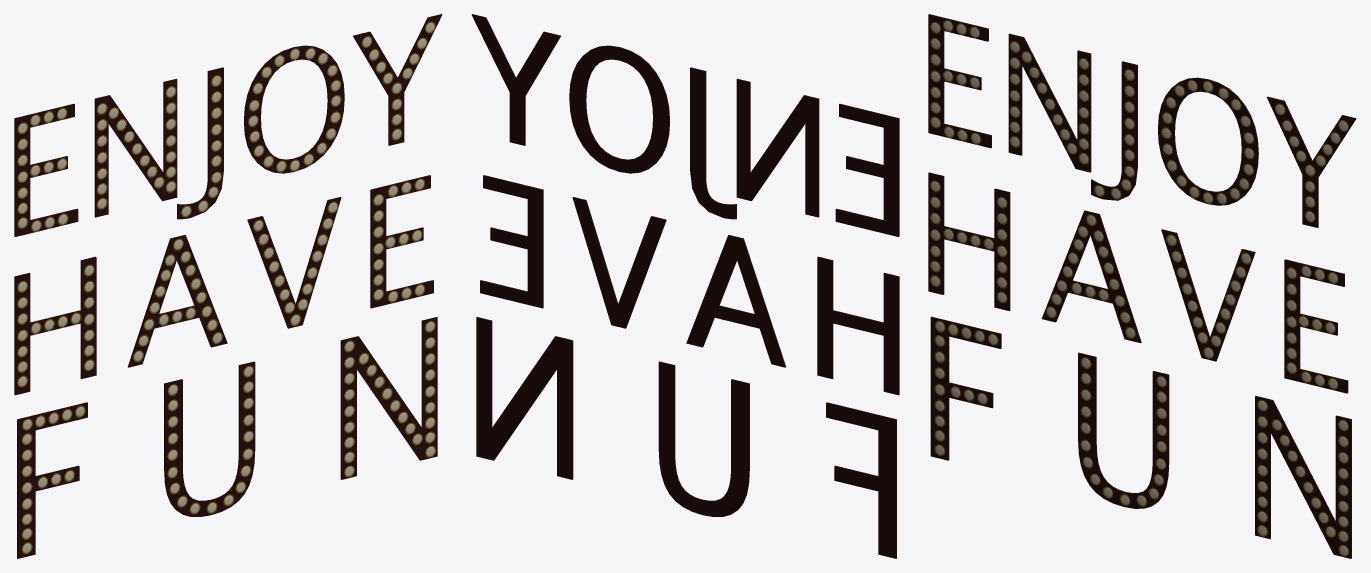
Rendered from enjoy23.obj.
3 views of the same model, side by side, from view 1: azimuth 30°, elevation 25°; view 2: azimuth 150°, elevation 25°; view 3: azimuth 330°, elevation 25° (orthographic).
Visible parts, largest first — view 1: Y_pSphere51.001; view 2: Y_pSphere51.001; view 3: Y_pSphere51.001.
Boxes of the visible parts, x1=… form: Y_pSphere51.001: x1=14, y1=14, x2=442, y2=558; Y_pSphere51.001: x1=471, y1=14, x2=899, y2=558; Y_pSphere51.001: x1=928, y1=14, x2=1356, y2=558.
Size of the model in its own units: 3 by 3 by 0.0131.
